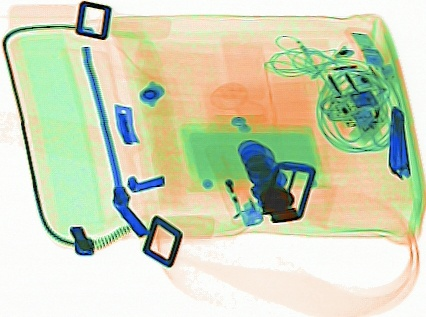lighter: (204, 140, 264, 227)
